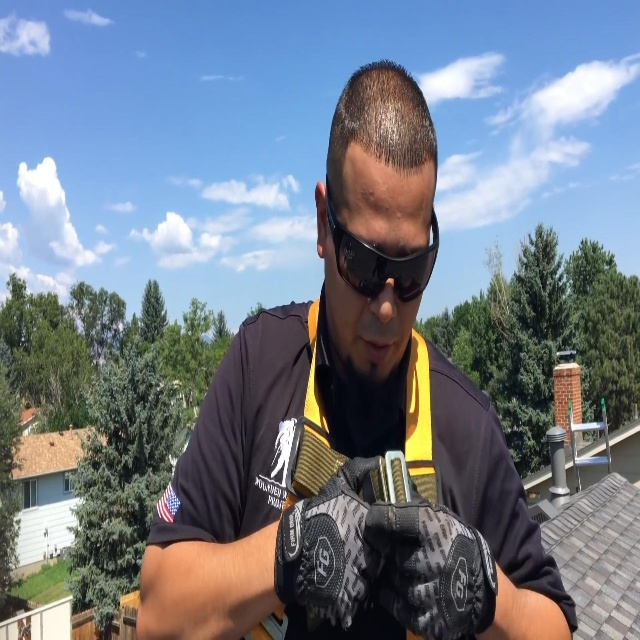Arnes_seguridad: (231, 284, 459, 640)
